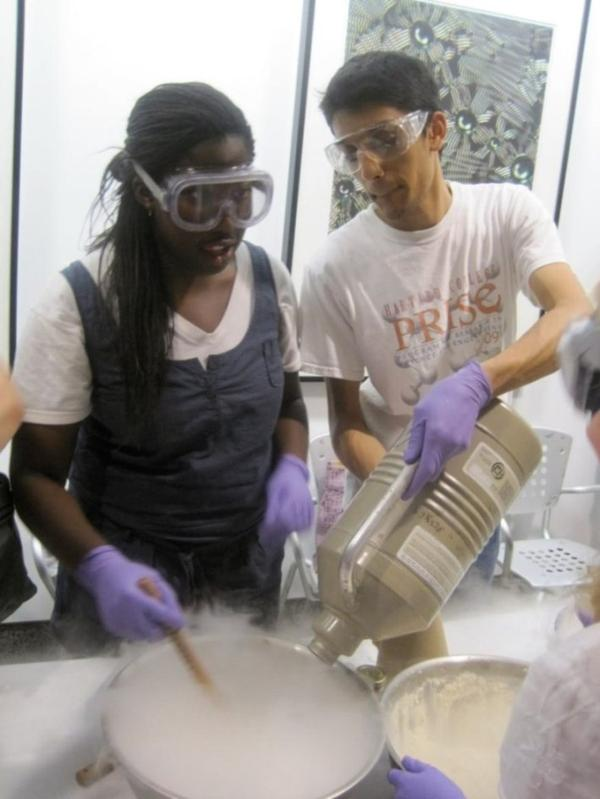person: (299, 51, 594, 558)
